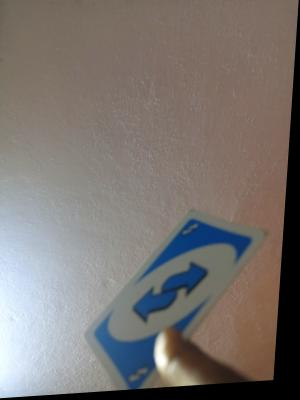blue: (113, 233, 237, 350)
